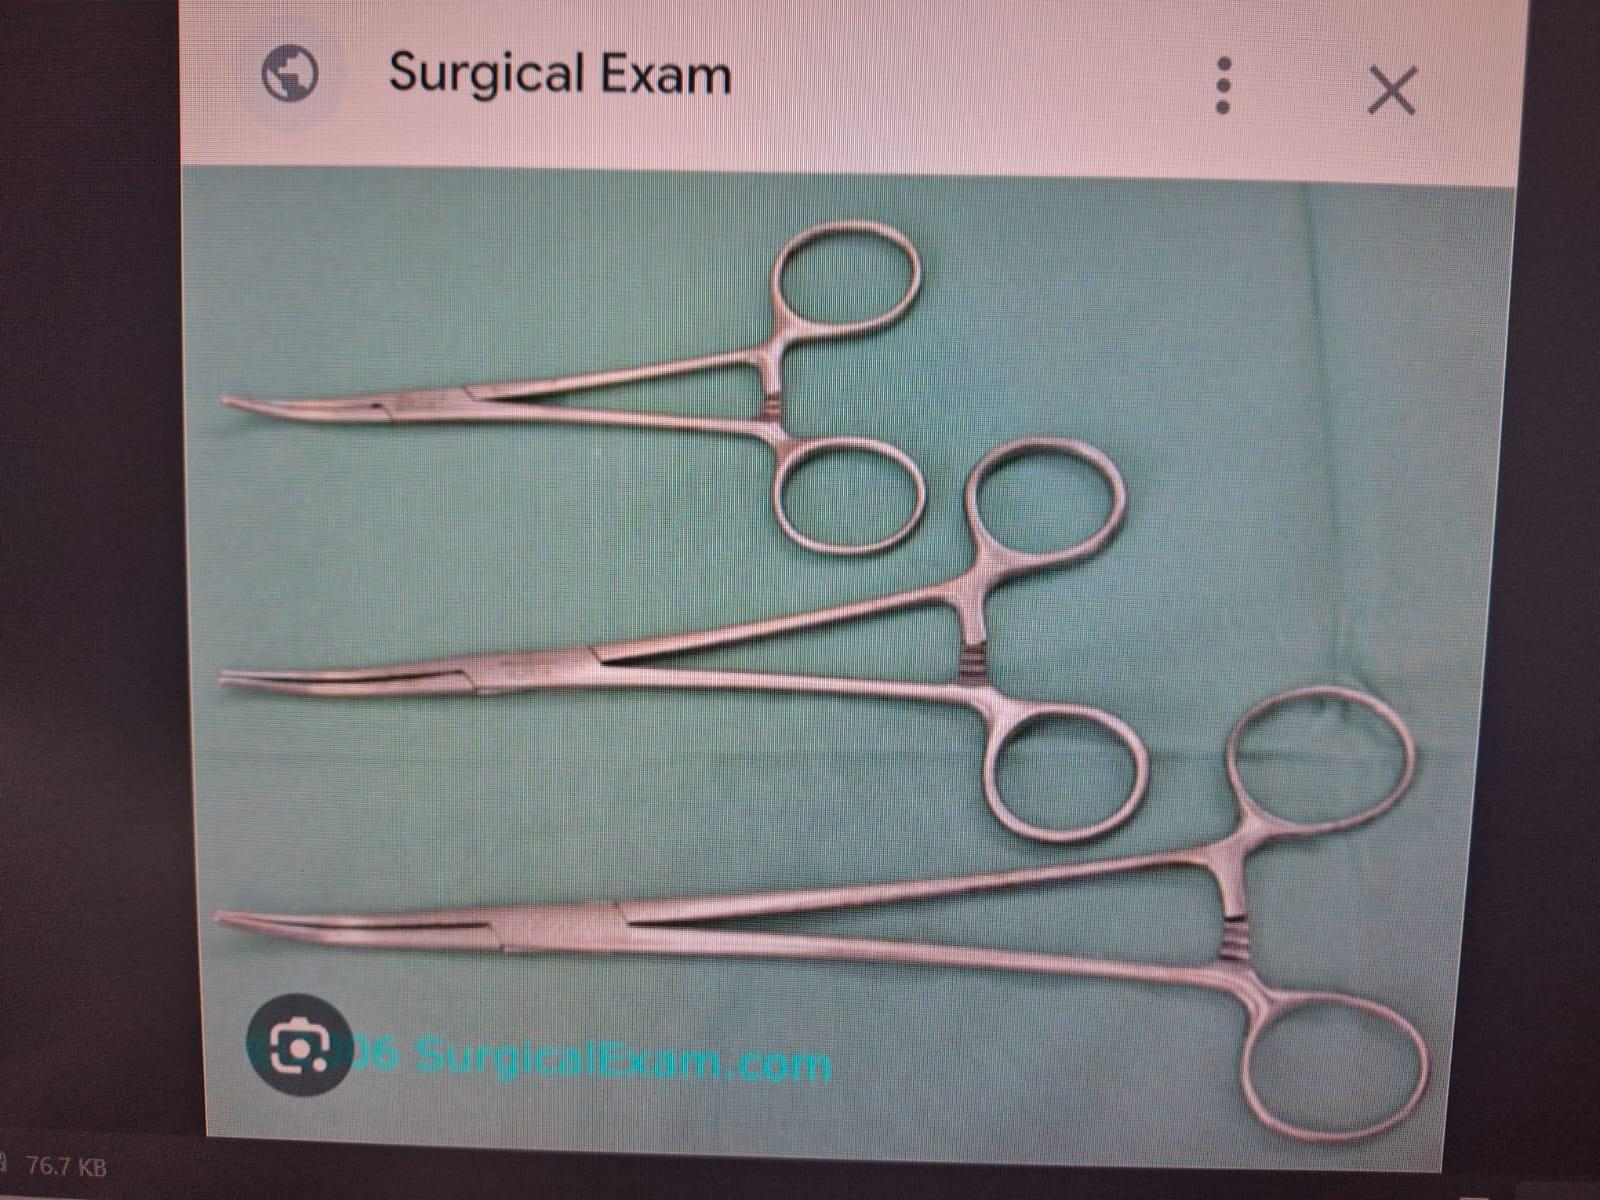Artery Forceps: (202, 668, 1461, 1158), (212, 416, 1170, 874), (215, 214, 940, 566)
